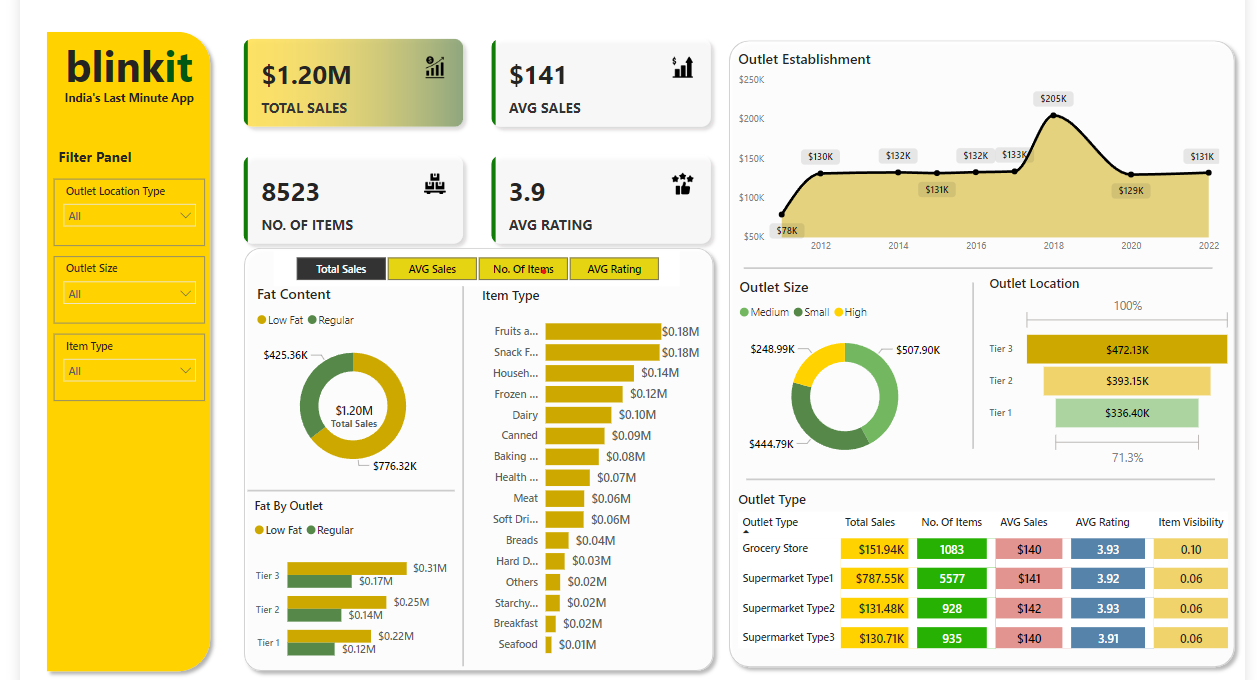

This screenshot's page, from the dashboard's own definition file:
{"tool":"powerbi","page":{"name":"Page 1","canvas":[1400,800],"ordinal":0},"visuals":[{"type":"shape","box":[21.4,38.9,205.1,749.3],"z":0},{"type":"textbox","box":[32.2,48.3,183.6,77.7],"z":1000},{"type":"textbox","box":[32.2,108.6,183.6,33.5],"z":2000},{"type":"cardVisual","fields":{"Data":["BlinkIT Grocery Data.total sales","BlinkIT Grocery Data.average sales","BlinkIT Grocery Data.no. of items","BlinkIT Grocery Data.average rating"]},"box":[238.6,38.9,569.7,269.4],"z":3000},{"type":"shape","box":[247.1,285.7,554.3,501.4],"z":4000},{"type":"slicer","fields":{"Values":["Metrics.Metrics"]},"box":[290,298.6,464.3,40],"z":5000},{"type":"donutChart","title":"Fat Content","fields":{"Y":["BlinkIT Grocery Data.Total Sales"],"Category":["BlinkIT Grocery Data.Item Fat Content"]},"box":[265.7,335.7,230,230],"z":6000},{"type":"cardVisual","fields":{"Data":["BlinkIT Grocery Data.Total Sales"]},"box":[335.1,454.4,92.5,60.3],"z":7000},{"type":"clusteredBarChart","title":"Fat By Outlet","fields":{"Y":["BlinkIT Grocery Data.Total Sales"],"Category":["BlinkIT Grocery Data.Outlet Location Type"],"Series":["BlinkIT Grocery Data.Item Fat Content"]},"box":[262.9,580,230,202.9],"z":8000},{"type":"shape","box":[260,547.1,237.1,50],"z":9000},{"type":"shape","box":[484.3,338.6,44.3,434.3],"z":10000},{"type":"barChart","title":"Item Type","fields":{"Y":["BlinkIT Grocery Data.Total Sales"],"Category":["BlinkIT Grocery Data.Item Type"]},"box":[522.9,338.6,258.6,434.3],"z":11000},{"type":"shape","box":[801.4,48.6,595.7,734.3],"z":12000},{"type":"lineChart","title":" Outlet Establishment ","fields":{"Y":["BlinkIT Grocery Data.Total Sales"],"Category":["BlinkIT Grocery Data.Outlet Establishment Year"]},"box":[815.7,67.1,560,242.9],"z":13000},{"type":"shape","box":[827.1,292.9,535.7,50],"z":14000},{"type":"donutChart","title":"Outlet Size","fields":{"Category":["BlinkIT Grocery Data.Outlet Size"],"Y":["BlinkIT Grocery Data.Total Sales"]},"box":[817.1,327.1,251.4,225.7],"z":15000},{"type":"shape","box":[1067.1,334.3,44.3,190],"z":16000},{"type":"funnel","title":"Outlet Location ","fields":{"Y":["BlinkIT Grocery Data.Total Sales"],"Category":["BlinkIT Grocery Data.Outlet Location Type"]},"box":[1102.9,324.3,287.1,225.7],"z":17000},{"type":"shape","box":[830,534.3,535.7,50],"z":18000},{"type":"pivotTable","title":"Outlet Type","fields":{"Rows":["BlinkIT Grocery Data.Outlet Type"],"Values":["BlinkIT Grocery Data.Total Sales","BlinkIT Grocery Data.No. Of Items","BlinkIT Grocery Data.AVG Sales","BlinkIT Grocery Data.AVG Rating","Avg(BlinkIT Grocery Data.Item Visibility)"]},"box":[815.7,571.4,574.3,191.4],"z":19000},{"type":"slicer","fields":{"Values":["BlinkIT Grocery Data.Outlet Location Type"]},"box":[38.6,215.7,172.9,77.1],"z":20000},{"type":"slicer","fields":{"Values":["BlinkIT Grocery Data.Outlet Size"]},"box":[38.6,304.3,172.9,77.1],"z":21000},{"type":"slicer","fields":{"Values":["BlinkIT Grocery Data.Item Type"]},"box":[38.6,392.9,172.9,77.1],"z":22000},{"type":"textbox","box":[38.6,174.3,132.9,41.4],"z":22001}]}

Visuals, with their boxes on the page's 1400x800 design canvas (x1, y1, x2, y2). These are canvas units, not pixel positions in the 1257x680 screenshot, which may show the page scaled, cropped or inside an application window:
shape: 21:39:226:788
textbox: 32:48:216:126
textbox: 32:109:216:142
cardVisual - BlinkIT Grocery Data.total sales x BlinkIT Grocery Data.average sales: 239:39:808:308
shape: 247:286:801:787
slicer - Metrics.Metrics: 290:299:754:339
"Fat Content" donutChart: 266:336:496:566
cardVisual - BlinkIT Grocery Data.Total Sales: 335:454:428:515
"Fat By Outlet" clusteredBarChart: 263:580:493:783
shape: 260:547:497:597
shape: 484:339:529:773
"Item Type" barChart: 523:339:782:773
shape: 801:49:1397:783
" Outlet Establishment " lineChart: 816:67:1376:310
shape: 827:293:1363:343
"Outlet Size" donutChart: 817:327:1068:553
shape: 1067:334:1111:524
"Outlet Location " funnel: 1103:324:1390:550
shape: 830:534:1366:584
"Outlet Type" pivotTable: 816:571:1390:763
slicer - BlinkIT Grocery Data.Outlet Location Type: 39:216:212:293
slicer - BlinkIT Grocery Data.Outlet Size: 39:304:212:381
slicer - BlinkIT Grocery Data.Item Type: 39:393:212:470
textbox: 39:174:172:216
